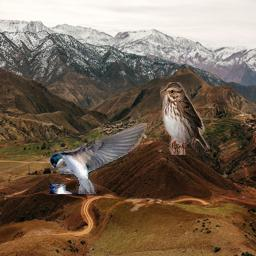Sparrow: (160, 82, 210, 155)
Swallow: (50, 123, 147, 194)
